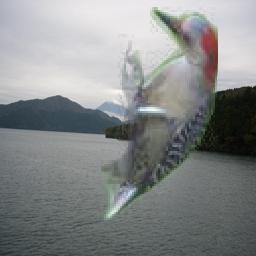Woodpecker: (102, 7, 219, 223)
